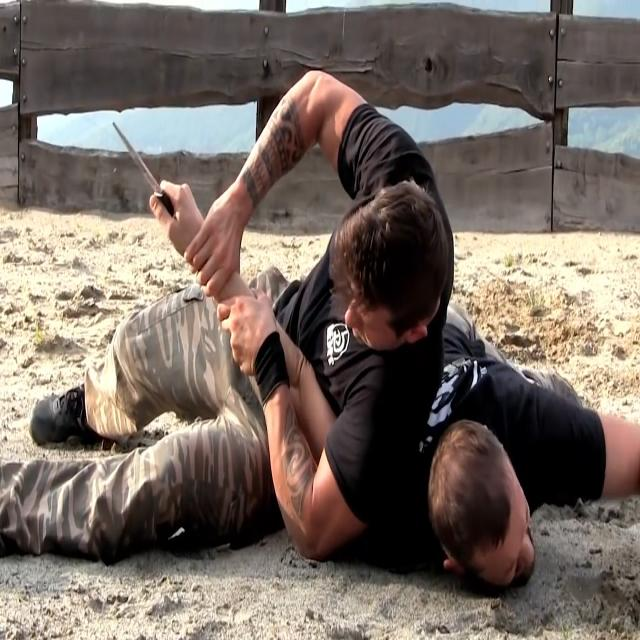knife: (106, 112, 170, 216)
